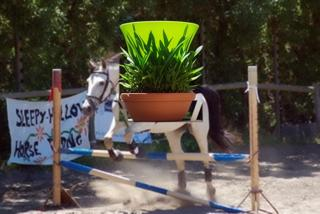horse: (82, 50, 245, 198)
pottedplant: (119, 17, 202, 121)
